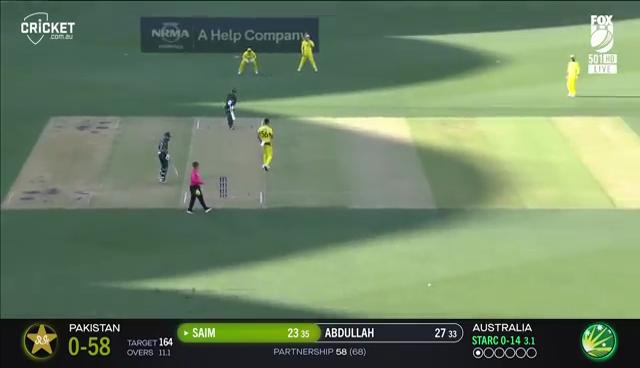ball: (422, 280, 440, 289)
